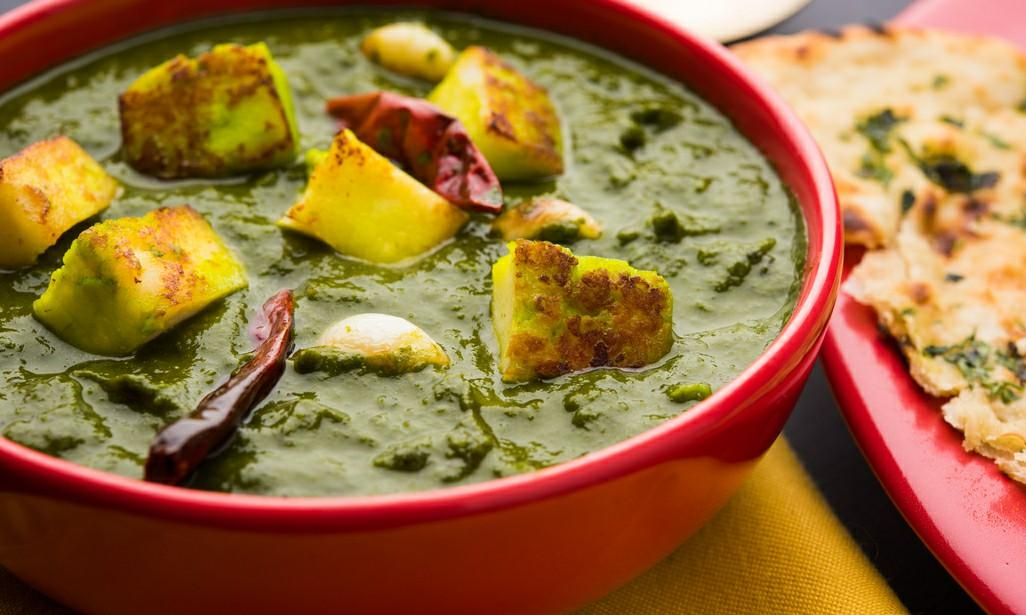PalakPaneer: (0, 13, 809, 535)
